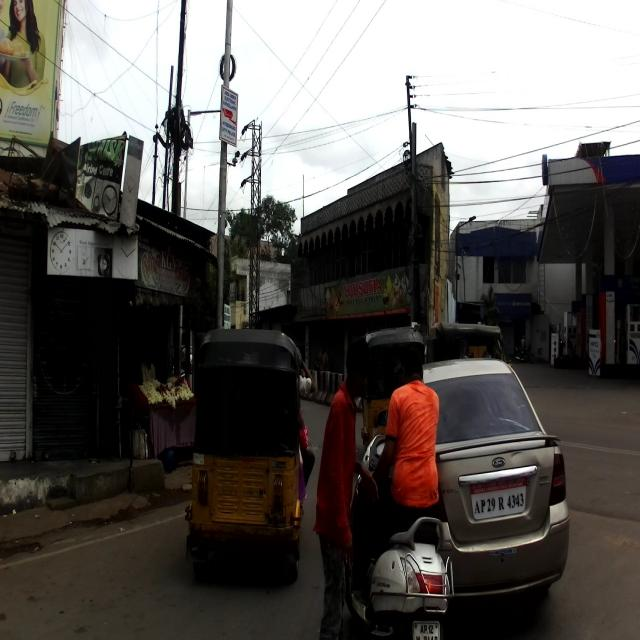Car_Ford: (421, 356, 570, 596)
autorickshaw: (185, 326, 306, 582), (361, 328, 423, 454)
scooter: (344, 438, 454, 636)
